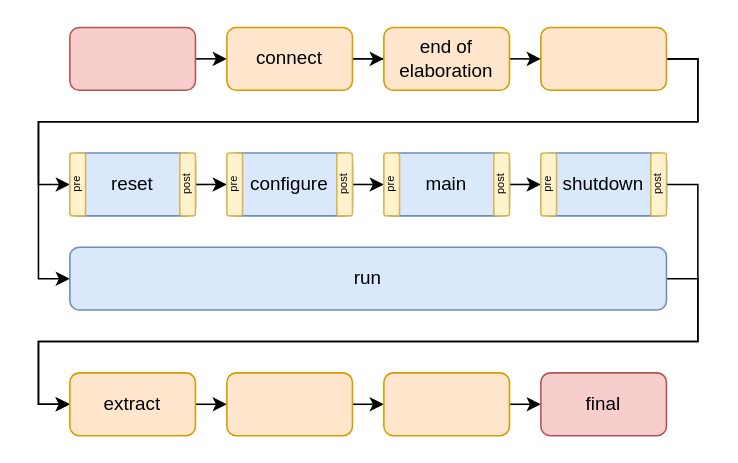
Some shapes in this 738 by 463 pixel diagram are drawn without their labels. Each missing label, with the centre of its shape:
build: point (131, 58)
check: point (288, 403)
report: point (445, 403)
start of simulation: point (602, 58)
